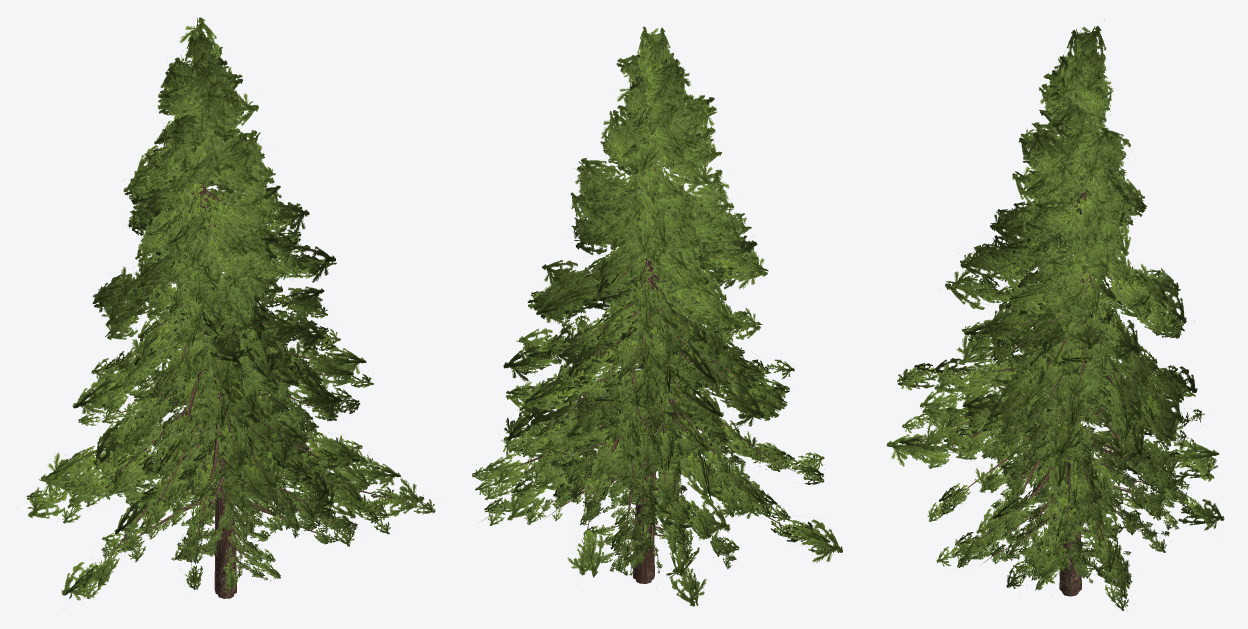
The model's file is ez-pine-a.glb.
3 renders of one model, left to right at view 1: azimuth 30°, elevation 25°; view 2: azimuth 150°, elevation 25°; view 3: azimuth 270°, elevation 25°, orthographic. The views are drawn at different scales.
Parts seen in each view (by area): view 1: large_mid, large_near, medium_mid, medium_near, small_mid, small_near; view 2: large_mid, large_near, medium_mid, medium_near, small_mid, small_near; view 3: large_mid, large_near, medium_mid, medium_near, small_mid, small_near.
Part boxes in pixels (x1,y1,x2,y2): large_mid: (27, 17, 424, 600); large_near: (26, 29, 435, 598); medium_mid: (102, 235, 354, 561); medium_near: (101, 231, 357, 598); small_mid: (195, 376, 280, 592); small_near: (171, 378, 277, 593); large_mid: (483, 26, 842, 606); large_near: (472, 35, 830, 593); medium_mid: (524, 234, 759, 571); medium_near: (526, 252, 751, 583); small_mid: (584, 364, 690, 566); small_near: (591, 399, 677, 575); large_mid: (886, 26, 1224, 590); large_near: (898, 30, 1215, 610); medium_mid: (971, 234, 1188, 588); medium_near: (970, 234, 1189, 596); small_mid: (1018, 463, 1124, 590); small_near: (1021, 436, 1131, 589).
Size of the model in its own units: 13.18 by 20.62 by 11.6.
Materials: 3 (3 with a texture image).
